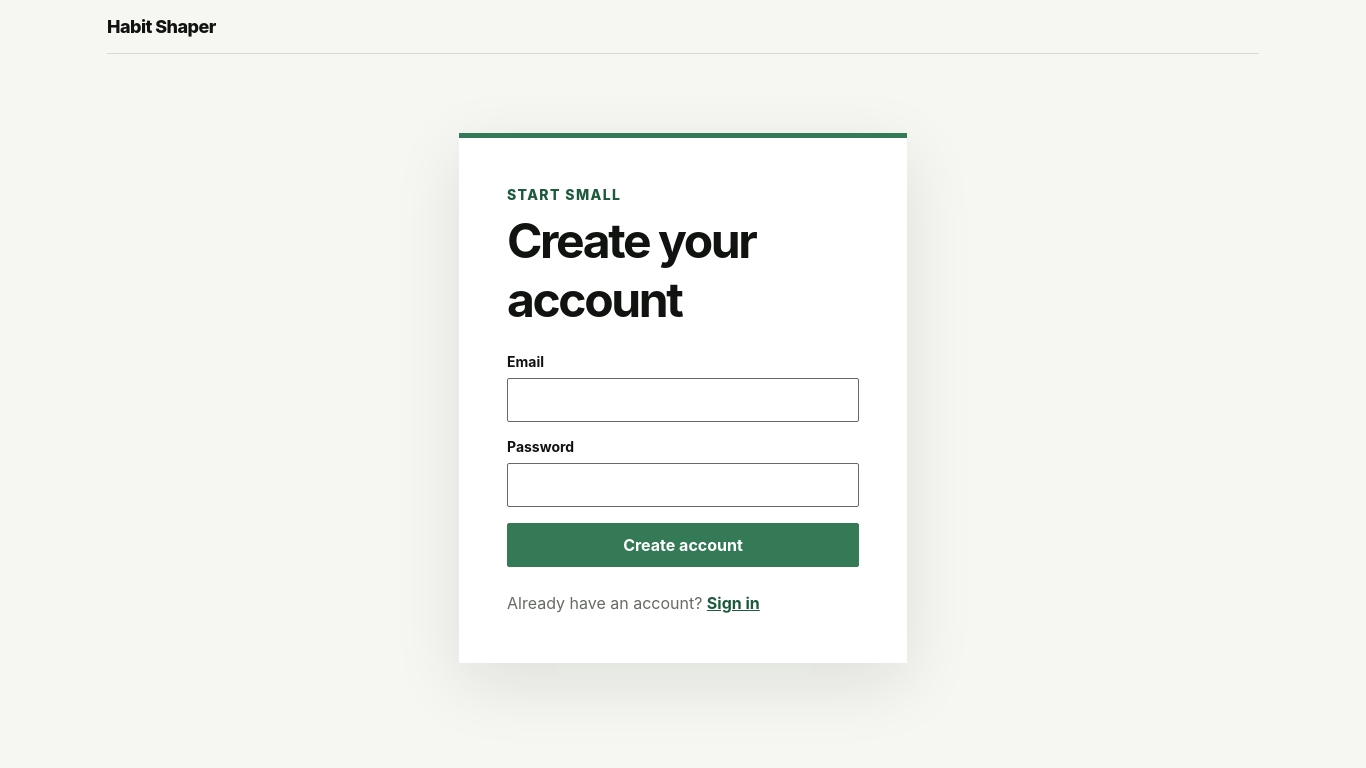
Test case: RegisterPage › shows client-side validation without submitting invalid values
The image size is (1366, 768).
Click the button "Create account" at [683, 545], box top-left (507, 523), bottom-right (859, 567)
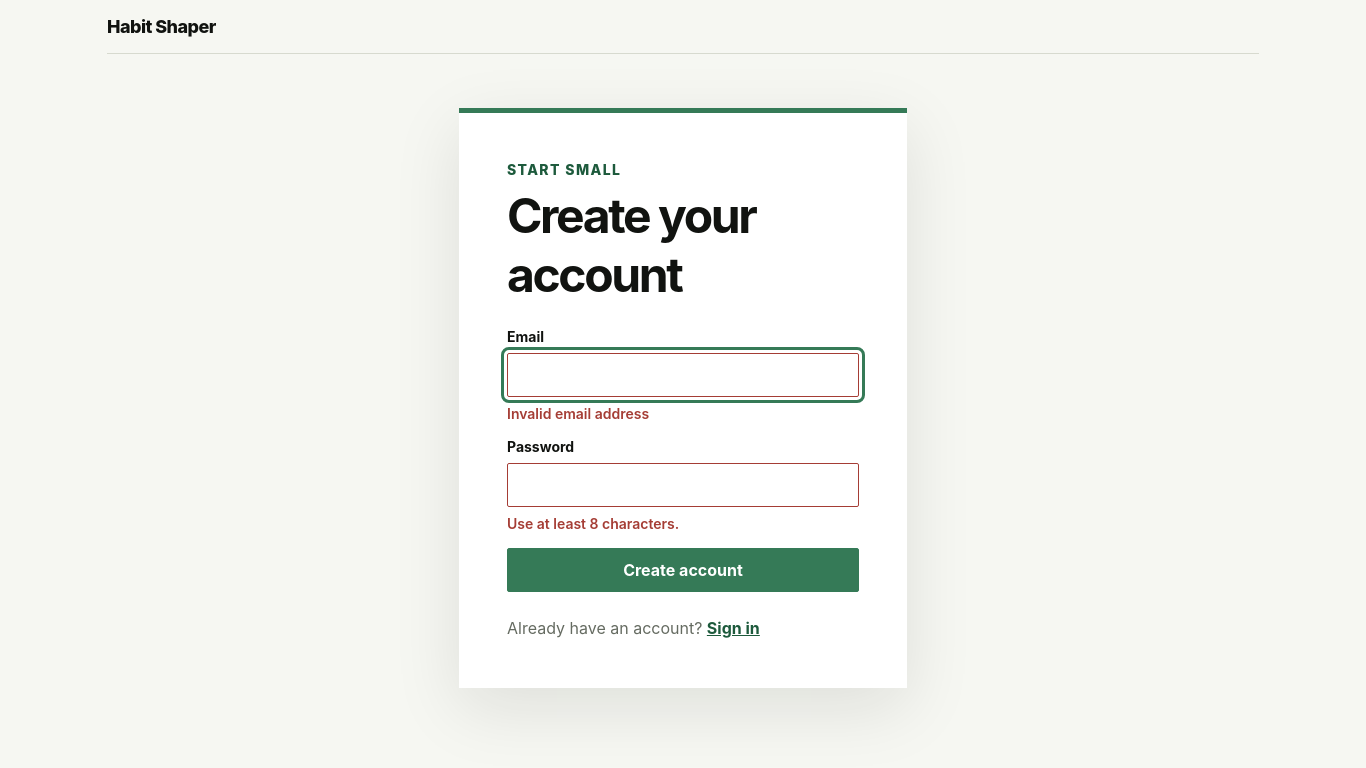
Check: the text "Use at least 8 characters." is shown, box top-left (507, 515), bottom-right (679, 532)
